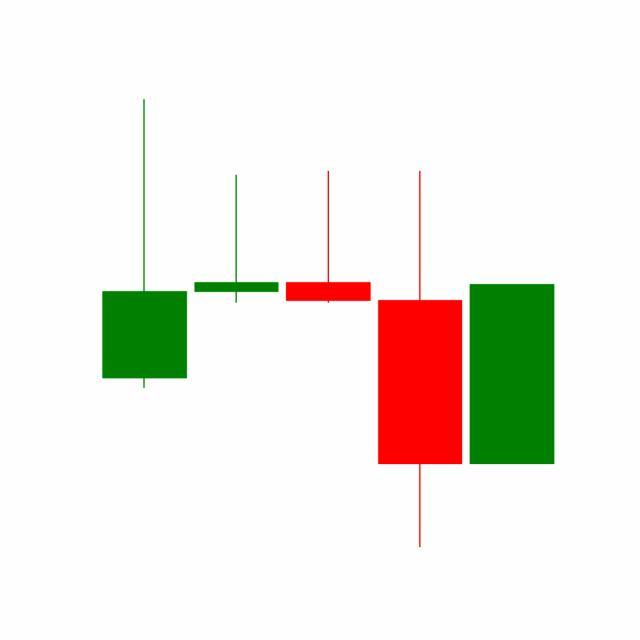Marubozu: (466, 283, 559, 467)
